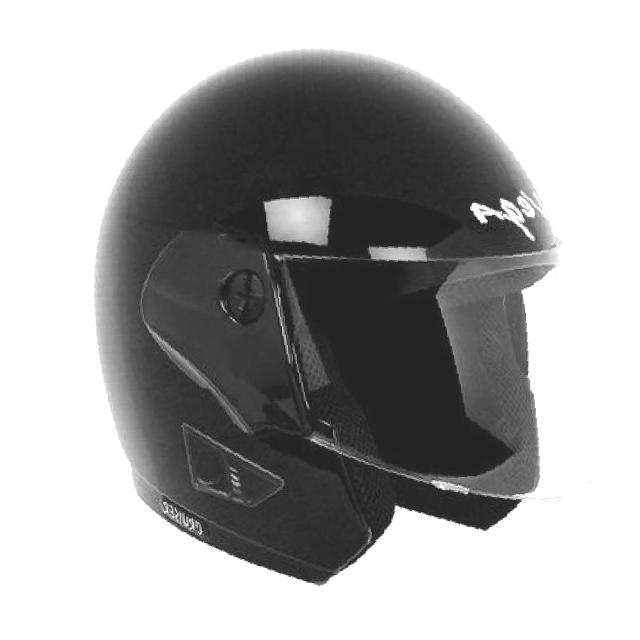helmet: (81, 31, 597, 595)
